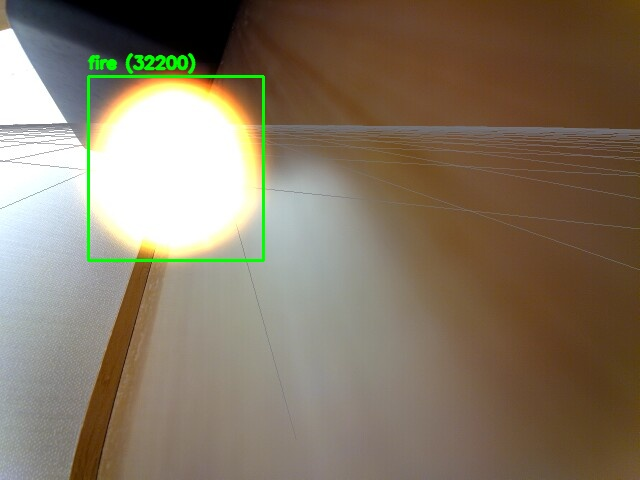fire: (88, 76, 263, 260)
